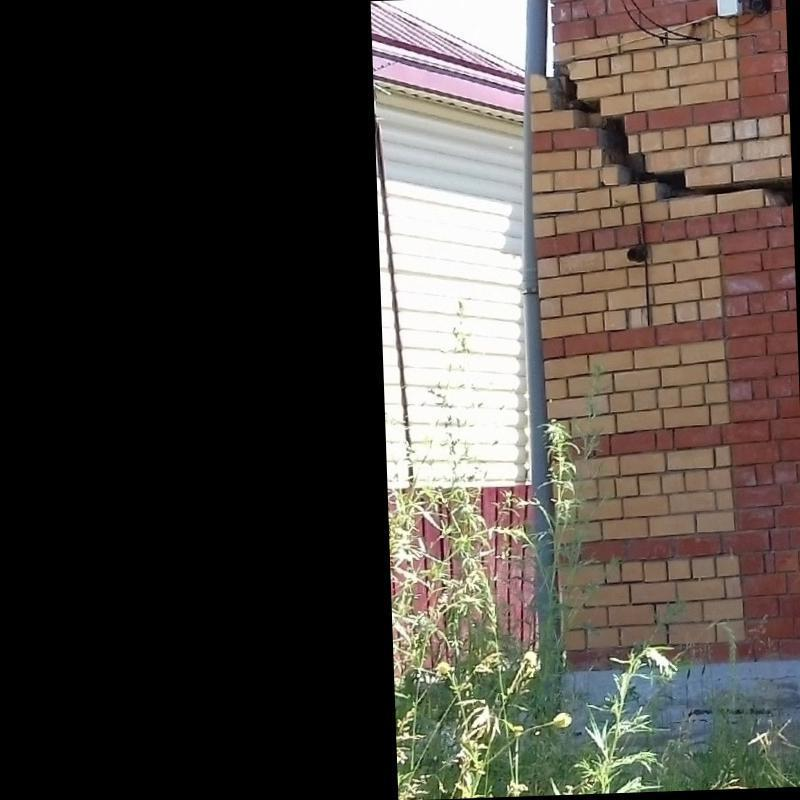pothole: (548, 63, 793, 206)
